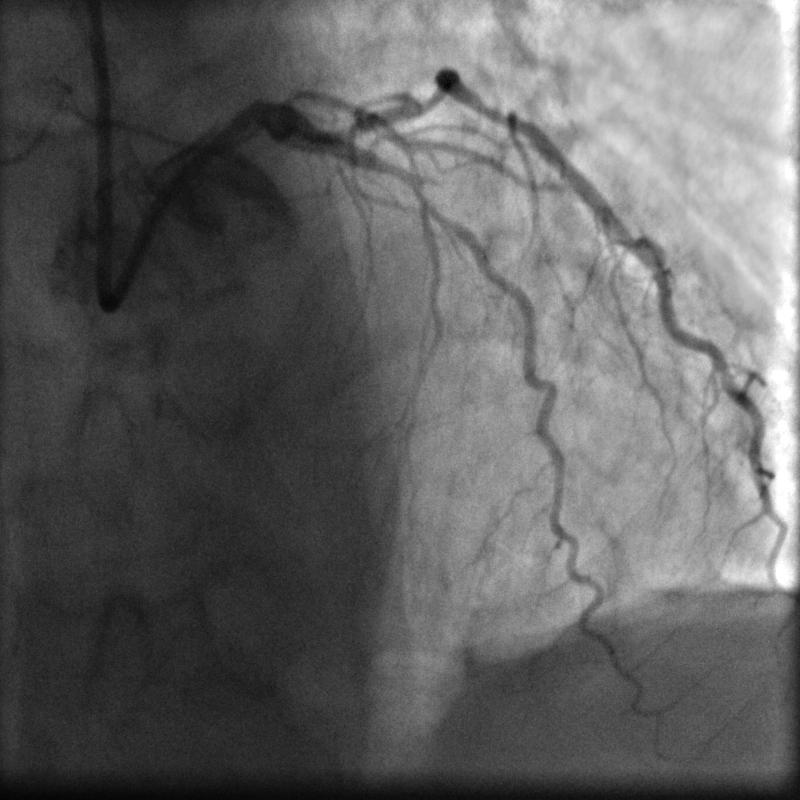Stenosis: (378, 152, 443, 218)
